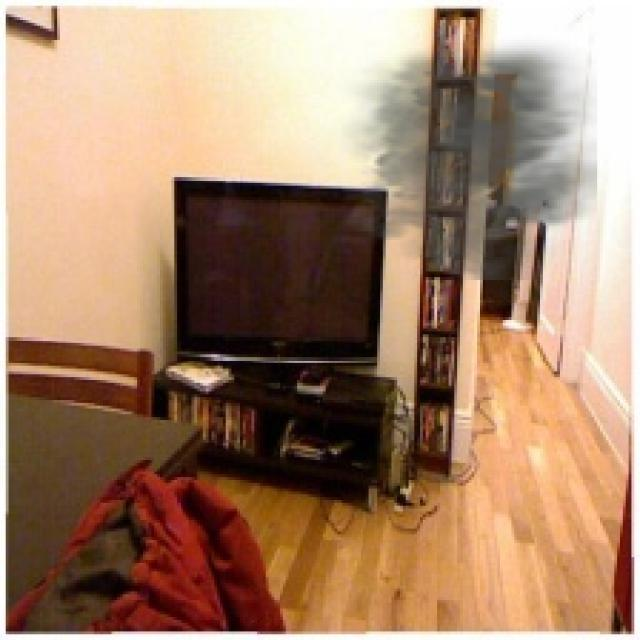Smoke: (326, 34, 598, 280)
